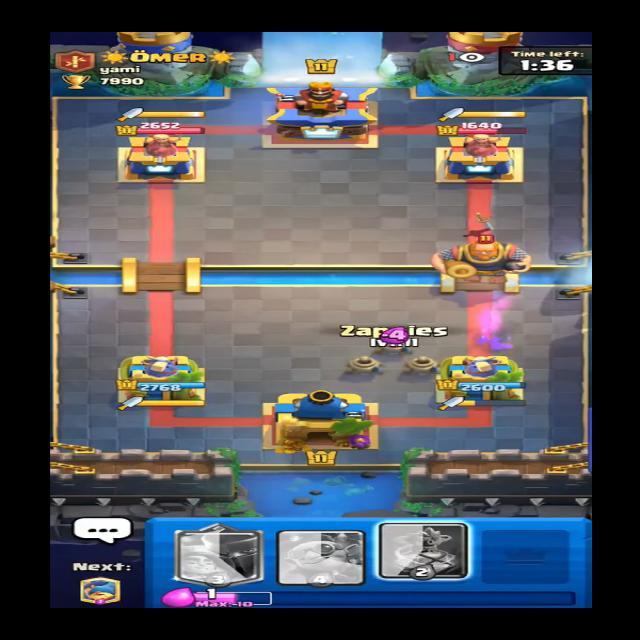royal-giant: (428, 229, 536, 282)
